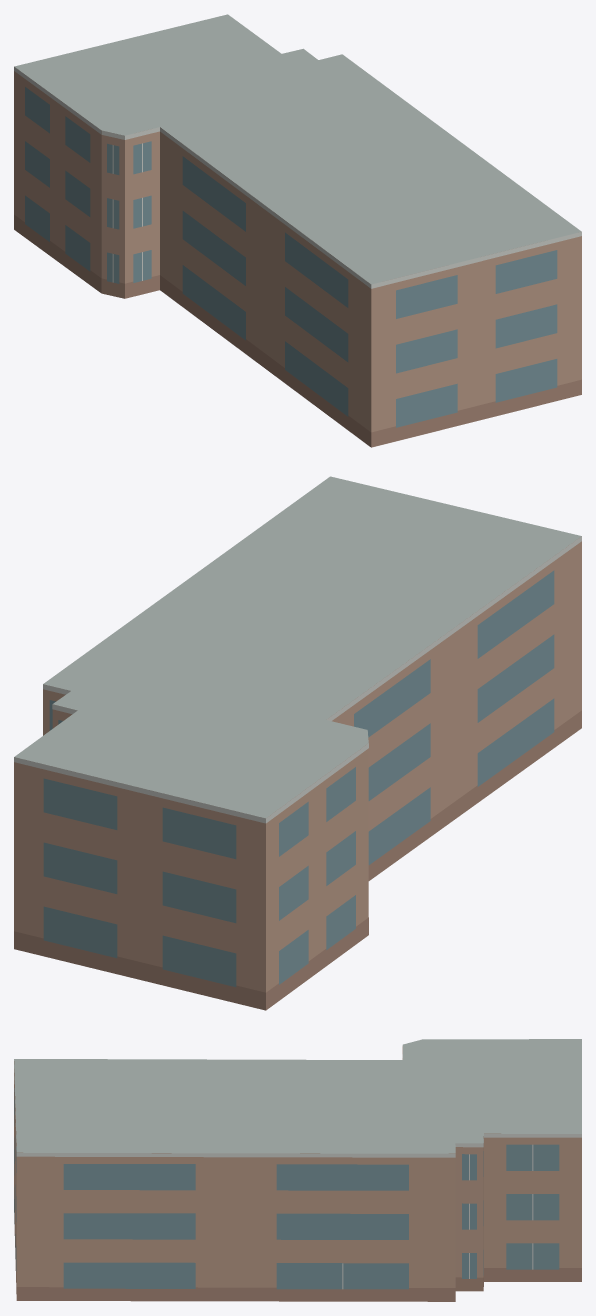
Rendered from survey-upis-32657370.glb.
The picture shows the model from 3 angles, top to bottom: view 1: azimuth 30°, elevation 25°; view 2: azimuth 150°, elevation 25°; view 3: azimuth 270°, elevation 25°; orthographic projection. The views are drawn at different scales.
Parts seen in each view (by area): view 1: survey-upis-32657370.tmp; view 2: survey-upis-32657370.tmp; view 3: survey-upis-32657370.tmp.
Part boxes in pixels (x1,y1,x2,y2): survey-upis-32657370.tmp: [14, 14, 581, 447]; survey-upis-32657370.tmp: [14, 476, 581, 1010]; survey-upis-32657370.tmp: [14, 1039, 581, 1301].
Bounding box in the file's own units: 15.21 × 9.15 × 31.82.
